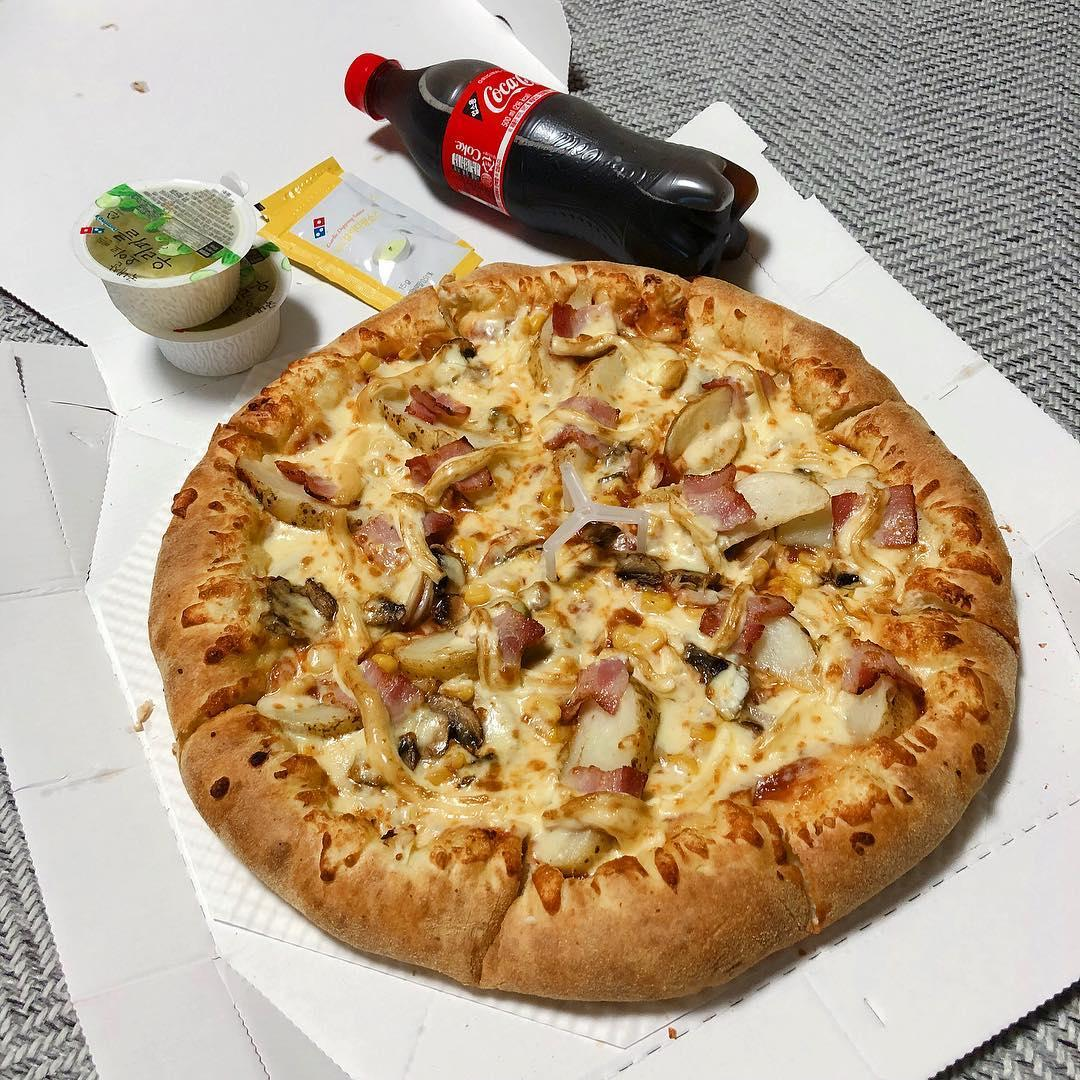Bacon: (837, 481, 921, 554), (539, 393, 629, 452), (699, 597, 786, 653), (673, 469, 754, 528), (405, 435, 493, 488), (493, 601, 546, 684), (349, 653, 410, 724), (549, 761, 649, 804), (281, 457, 360, 510), (349, 513, 413, 572), (401, 379, 473, 430), (545, 297, 616, 344), (561, 663, 626, 709), (837, 653, 882, 692)
Mushroom: (405, 697, 482, 780), (257, 573, 348, 641), (365, 577, 457, 634), (613, 551, 665, 588), (675, 569, 722, 596), (579, 525, 620, 544)
Pizza: (159, 261, 1024, 1001)
